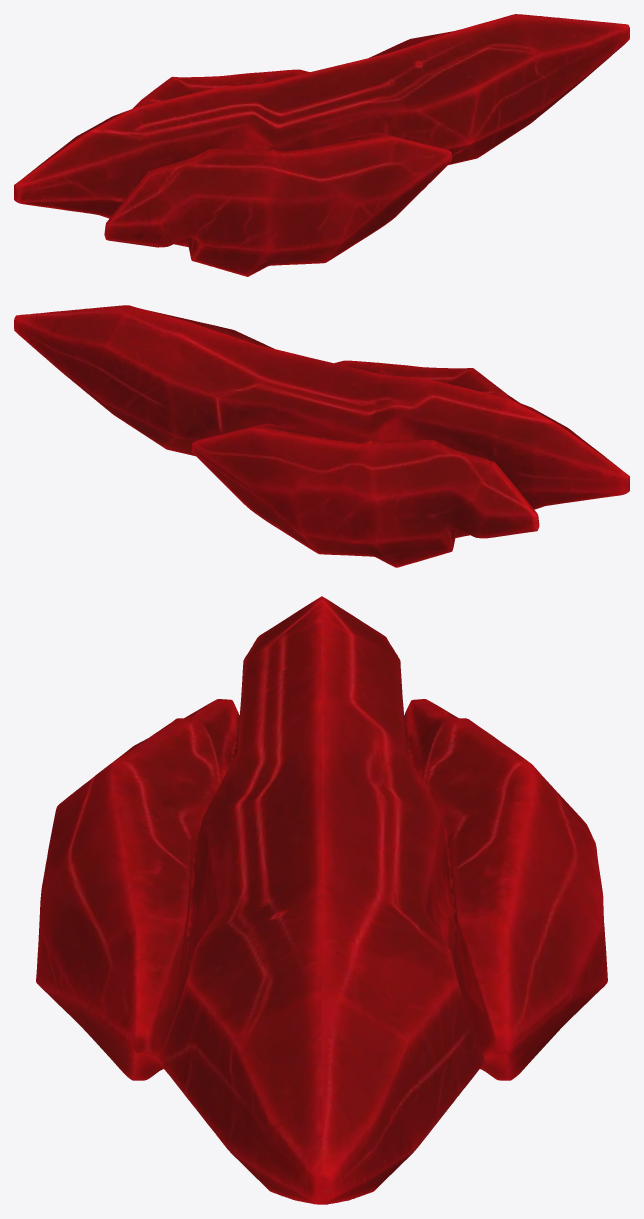
Rendered from ruby_shard.glb.
3 views of the same model, one above another, from view 1: azimuth 30°, elevation 25°; view 2: azimuth 150°, elevation 25°; view 3: azimuth 270°, elevation 25° (orthographic). The views are drawn at different scales.
Size of the model in its own units: 1.9 by 0.4782 by 0.7673.
Materials: 1 (1 with a texture image).
